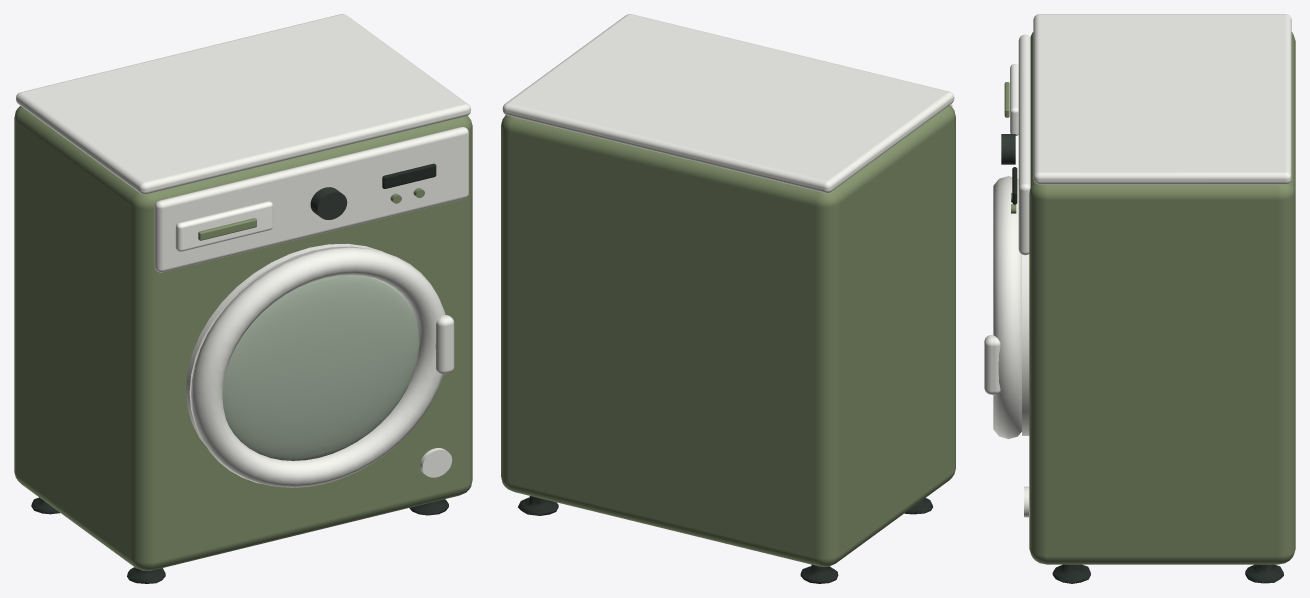
Rendered from bath_washer.glb.
The picture shows the model from 3 angles, left to right: view 1: azimuth 30°, elevation 25°; view 2: azimuth 150°, elevation 25°; view 3: azimuth 270°, elevation 25°; orthographic projection.
Size of the model in its own units: 1.34 by 1.55 by 1.06.
